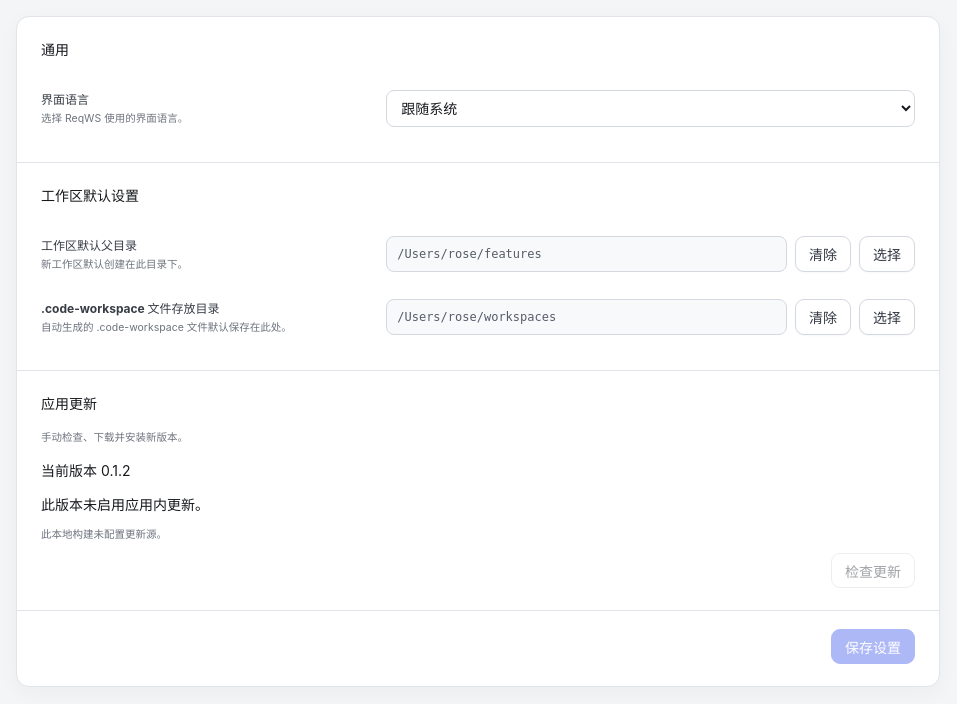
Settings page › switches the interface language immediately after saving
This screenshot has width=957, height=704.
Step 1. Select "English" in the dropdown labelled "界面语言" → (651, 108), box [386,90,915,127]
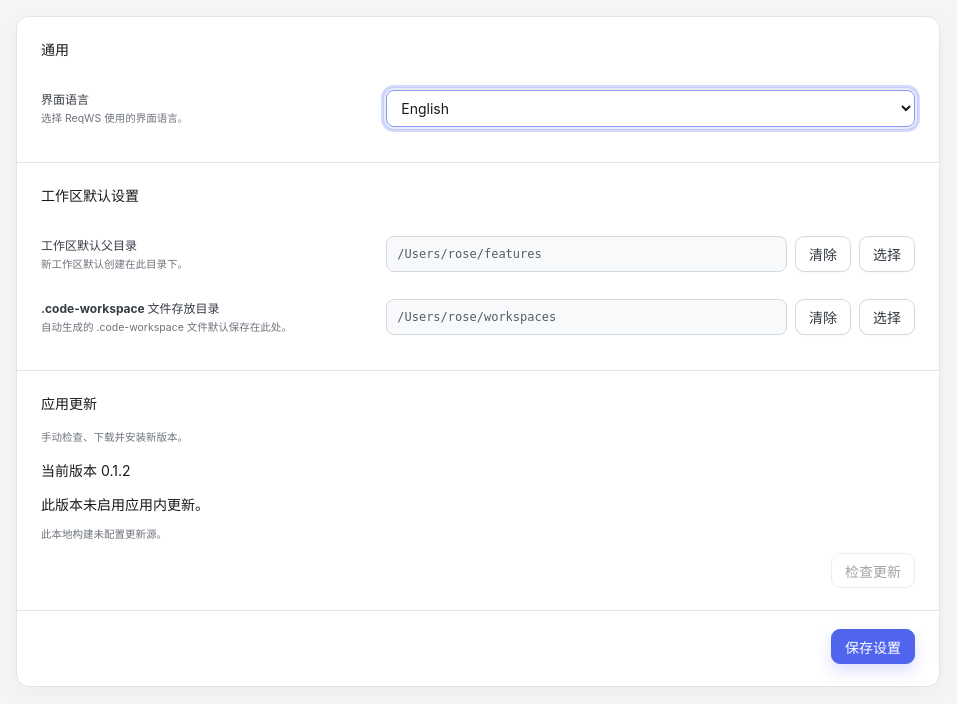
Step 2. Click the button "保存设置" → (873, 647), box [831,629,915,664]
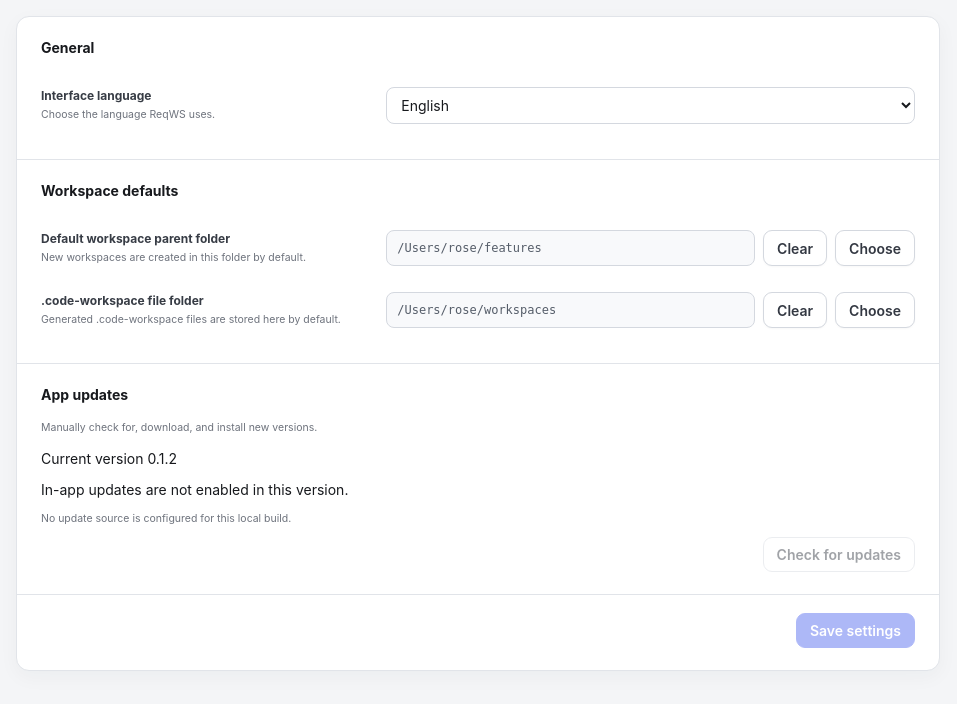
Now the heading "General" is shown, box [41,39,94,56]
